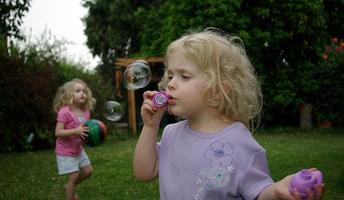person: (133, 28, 324, 200)
